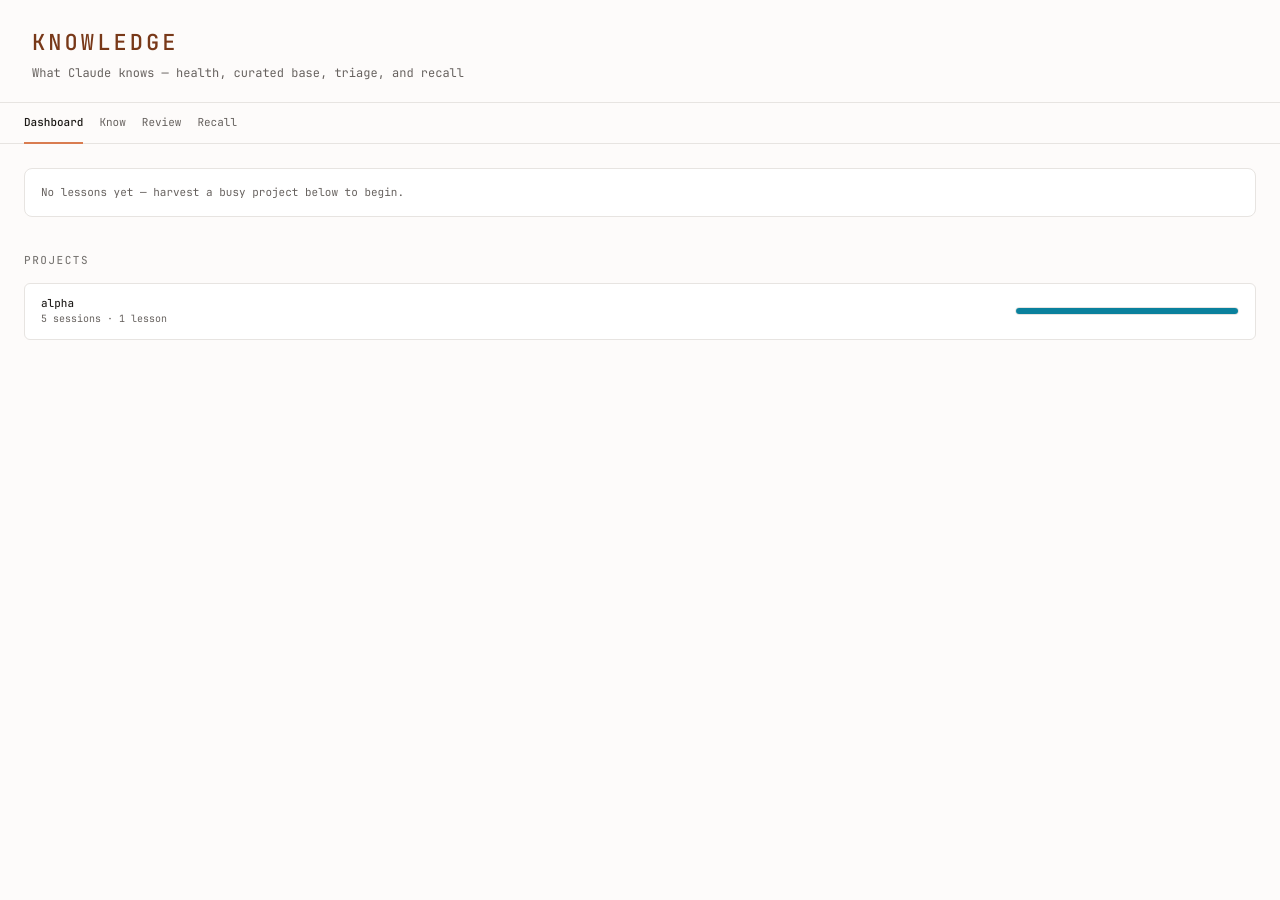
Test: SharedMemorySection tabs › a Know-tab click after a dashboard drill-down clears the stale filter
# Drill into alpha from the Dashboard's coverage grid.
Click the button "alpha 5 sessions · 1 lesson". click: [58, 303]
box: [24, 283, 1256, 340]
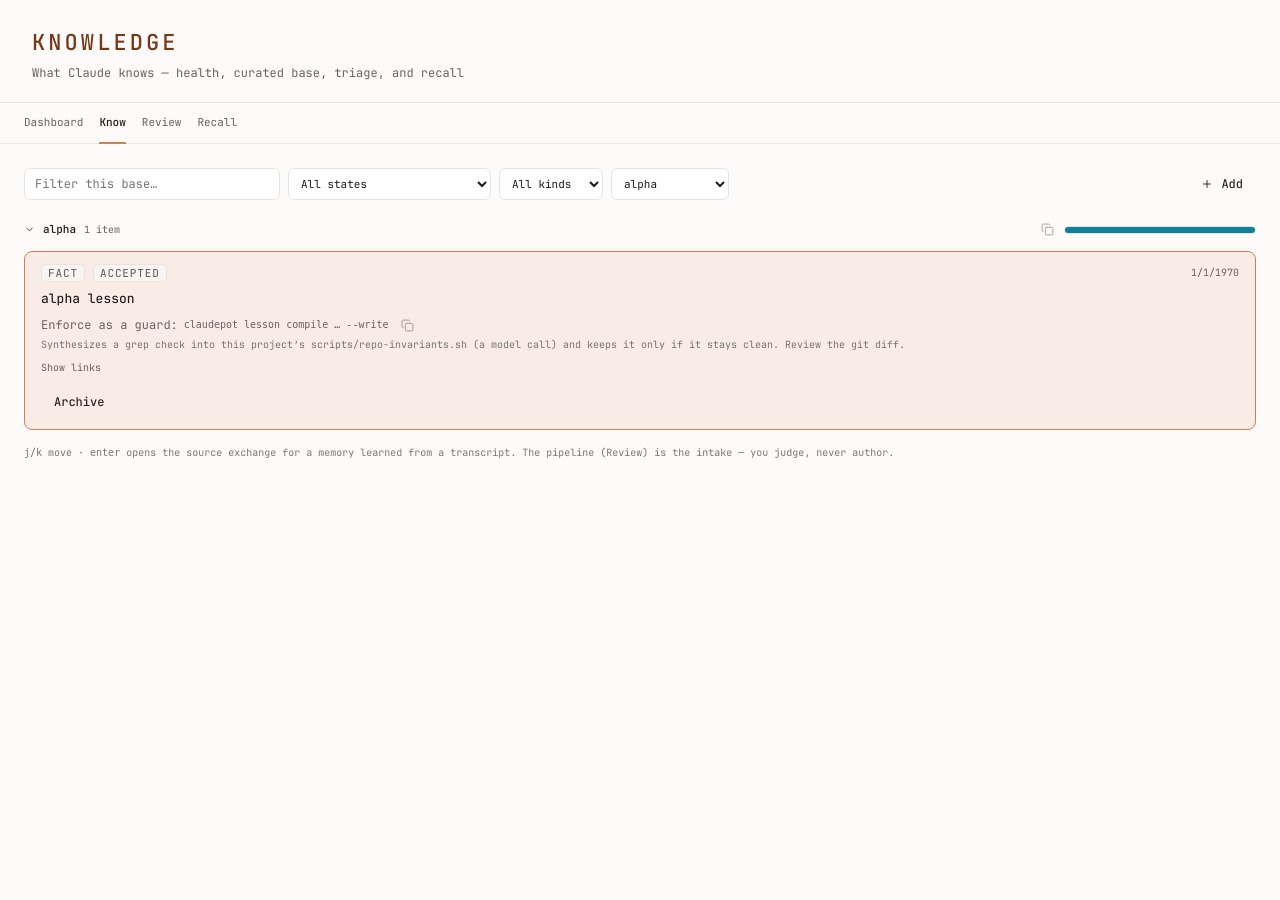
Check: the text "beta lesson" is not shown
Check: the text "alpha lesson" is shown, box [41, 290, 135, 307]
Click the tab "Know". click: [113, 123]
box: [99, 103, 126, 144]
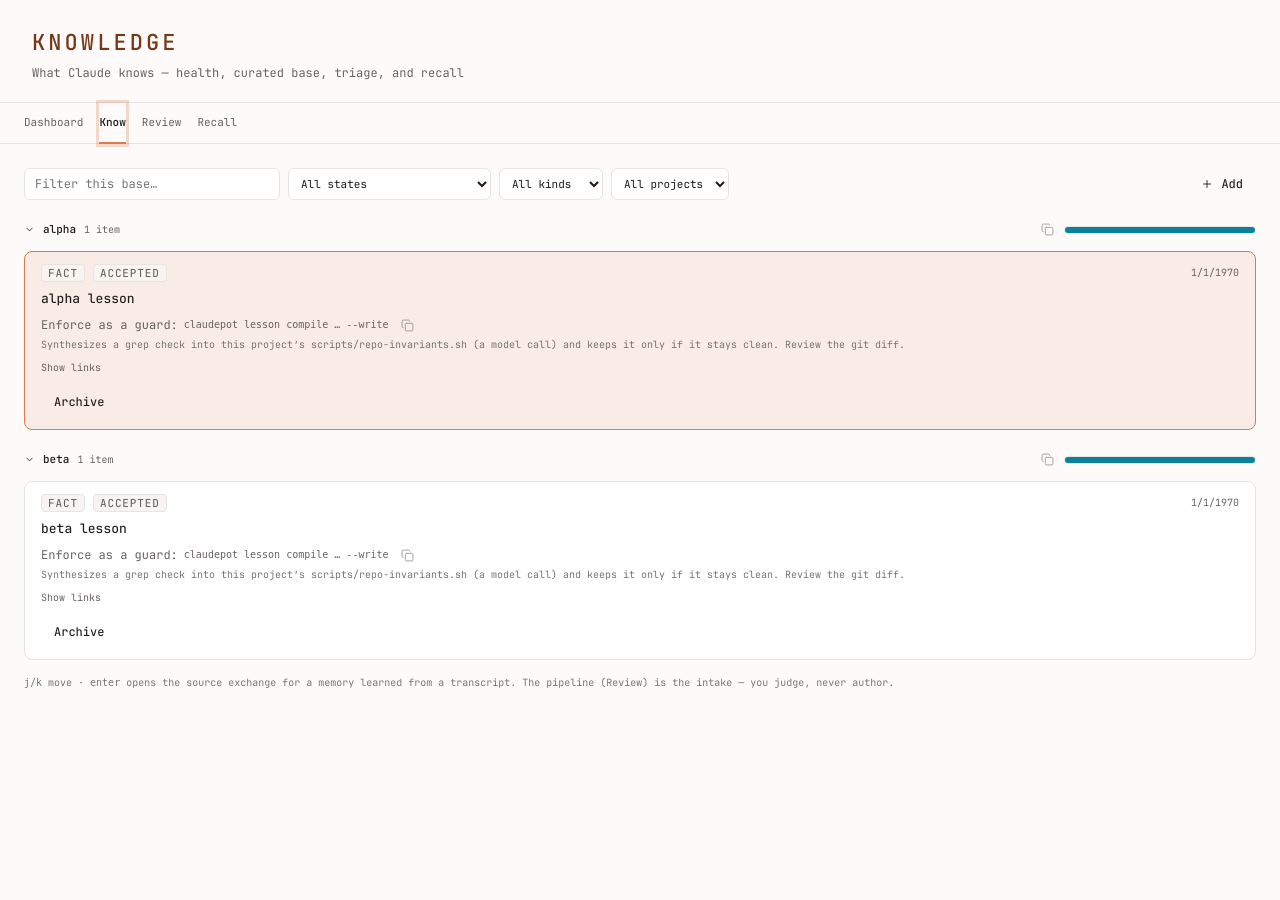
Check: the text "alpha lesson" is shown, box [41, 290, 135, 307]
Check: the text "beta lesson" is shown, box [41, 520, 127, 537]
